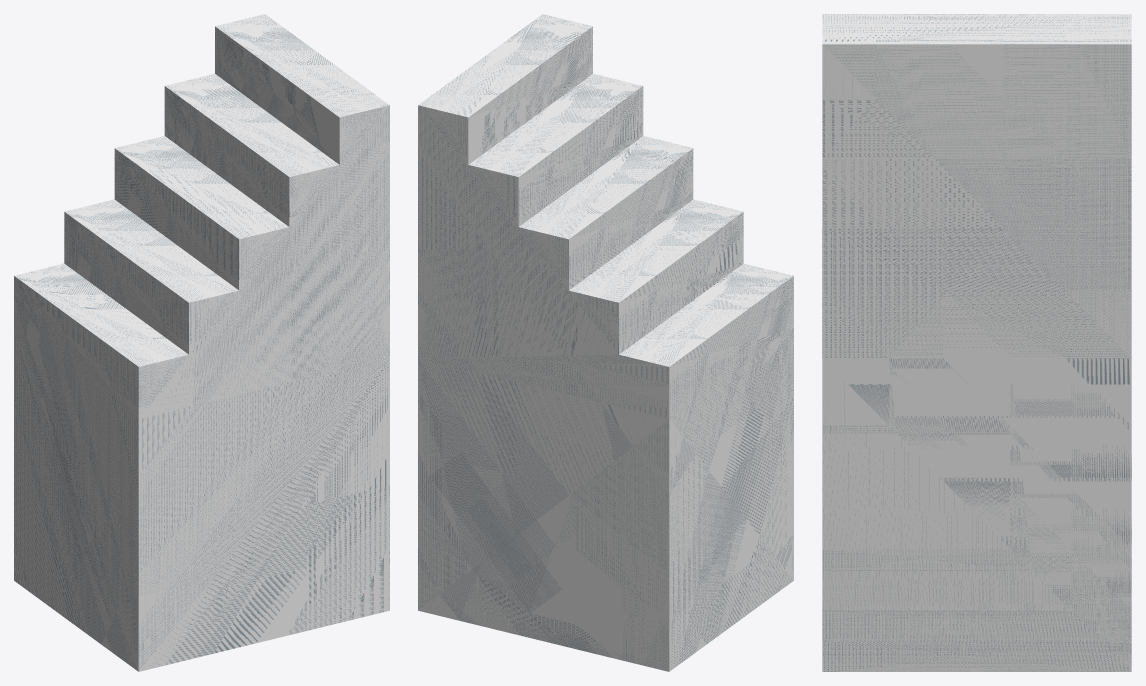
File: stairs.dae
The picture shows the model from 3 angles, left to right: view 1: azimuth 30°, elevation 25°; view 2: azimuth 150°, elevation 25°; view 3: azimuth 270°, elevation 25°; orthographic projection. The views are drawn at different scales.
Visible parts, largest first — view 1: group_1, group_0; view 2: group_1, group_0; view 3: group_1, group_0.
Boxes of the visible parts, x1,y1,x2,y2 form: group_1: (14,14,389,418); group_0: (14,328,389,671); group_1: (418,14,793,418); group_0: (418,328,793,671); group_1: (822,14,1131,358); group_0: (822,358,1131,671).
Bounding box in the file's own units: 36.55 × 31.42 × 70.31.
